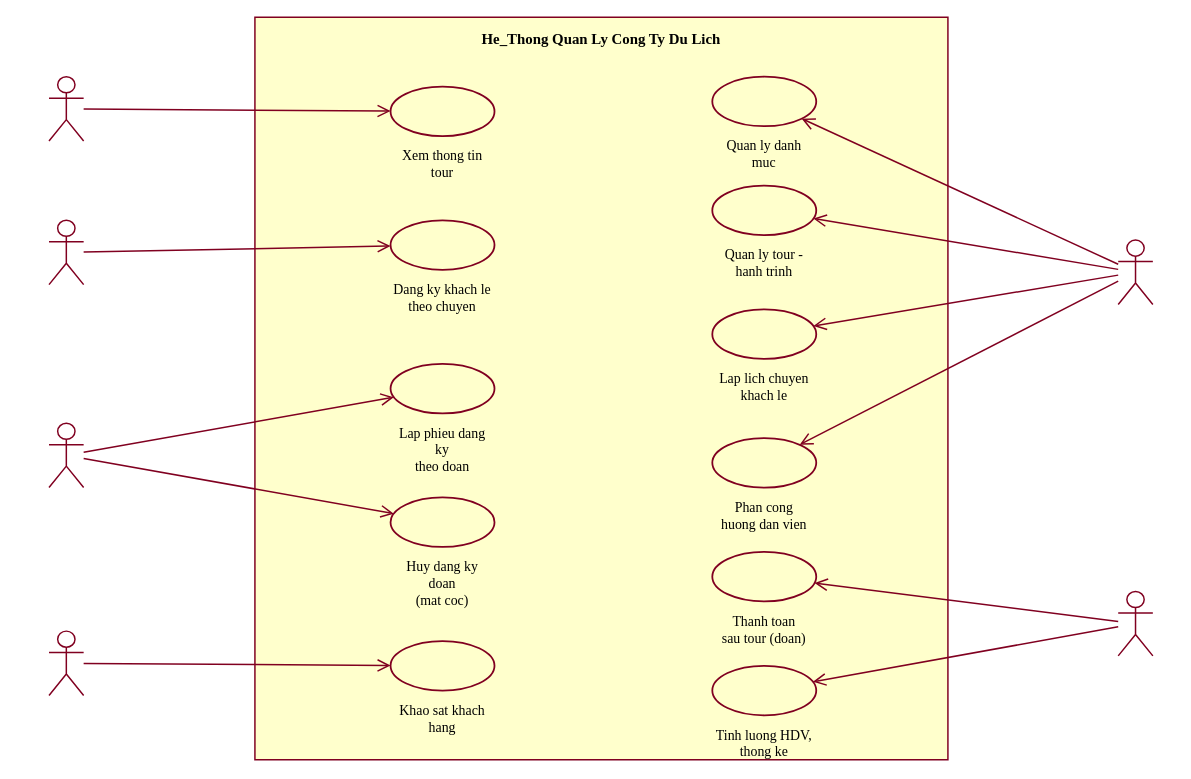
Some shapes in this 1191 by 779 pixel diagram are drawn without their labels. The box of each missing label's shape, as (x1, y1, x2, y2) in pixels:
Ke toan: (1117, 590, 1153, 656)
Khach hang: (48, 76, 84, 141)
NV ban ve: (48, 219, 84, 285)
NV cham soc KH: (48, 630, 84, 696)
NV dieu hanh: (1117, 239, 1153, 305)
NV kinh doanh: (48, 422, 84, 488)
